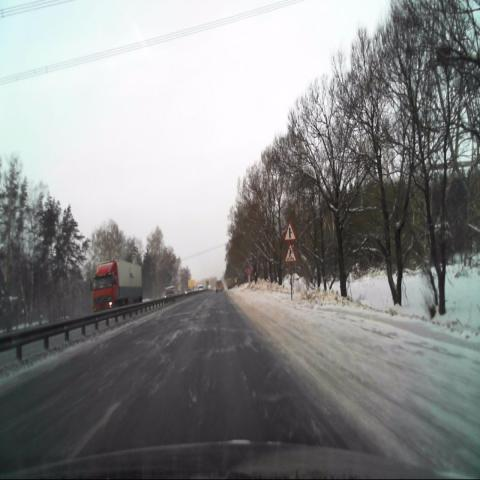1_22: (284, 242, 297, 262)
2_3_2: (284, 220, 296, 241)
